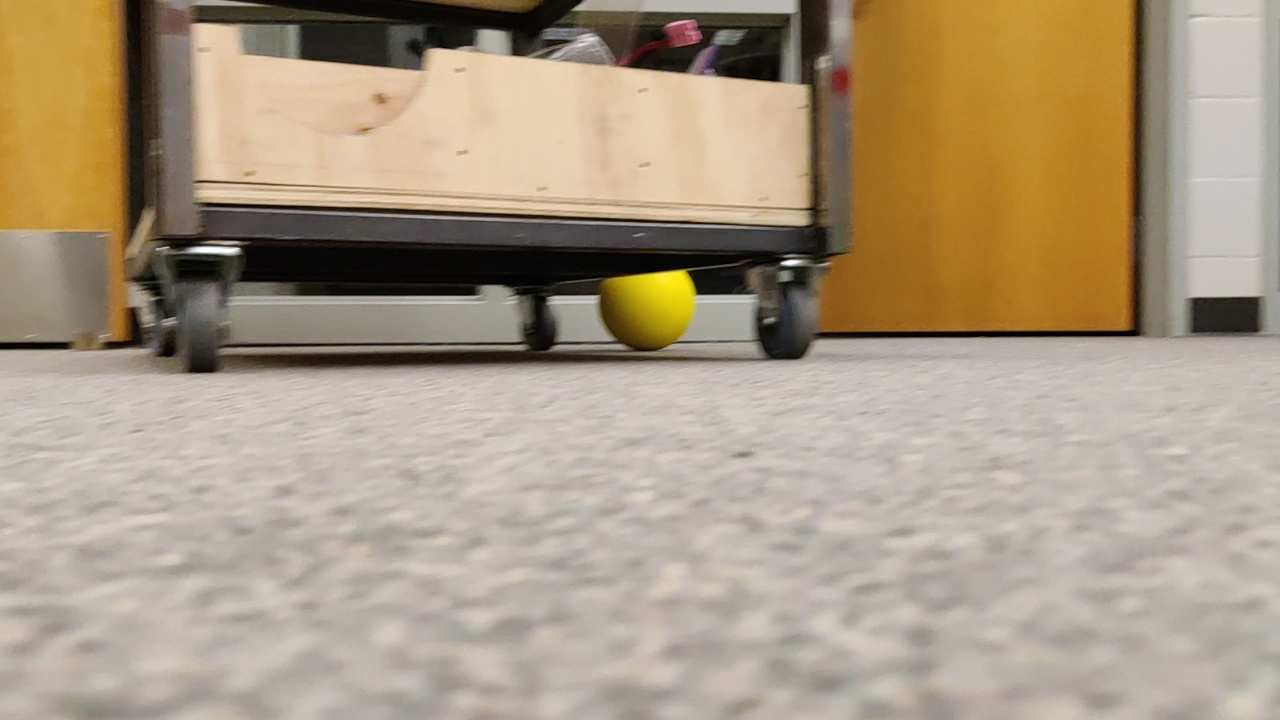Ball: (592, 269, 703, 358)
